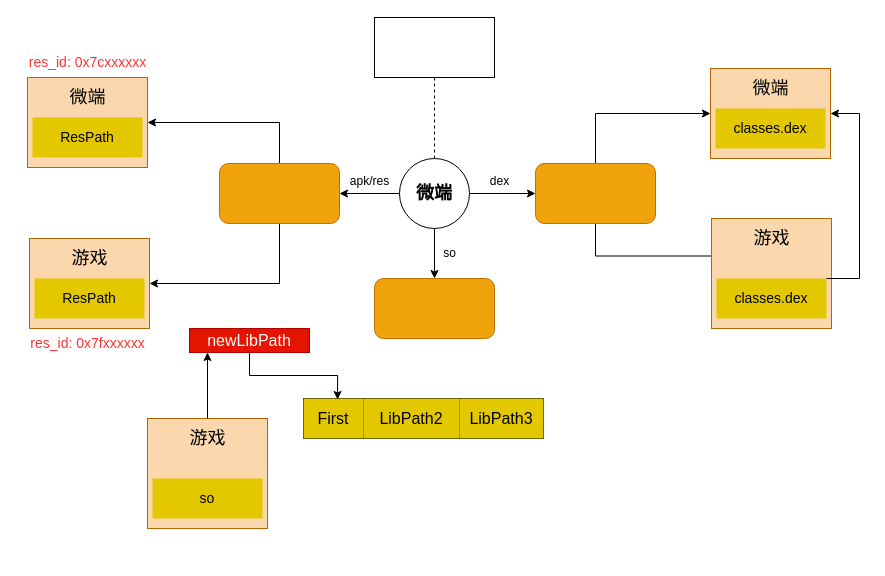
Some shapes in this 885 by 576 pixel diagram are drawn without their labels. Here are the shapes that lost their labels. From the top down, the centre of each, then its label:
point 434,47: McGLoader
point 279,193: AssetManager
point 595,193: ClassLoader
point 434,308: DexPathList
